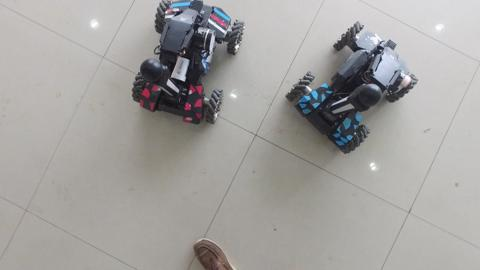chariot: (285, 17, 421, 160), (124, 1, 251, 131)
